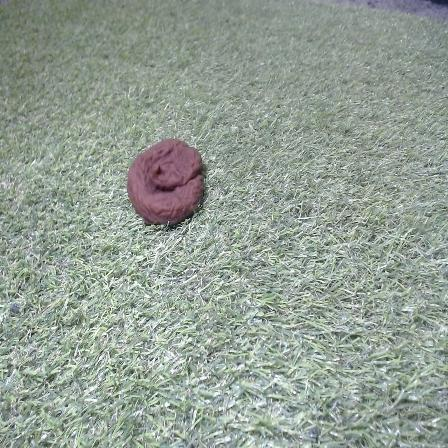dog-poop: (124, 132, 211, 228)
